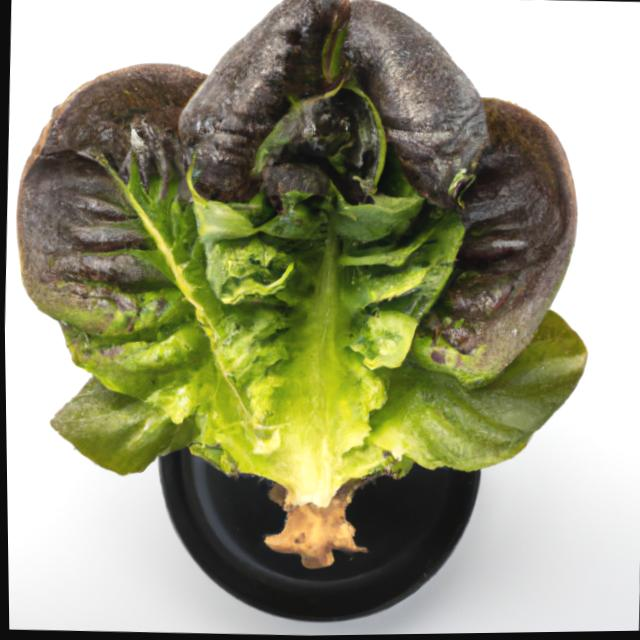-K: (0, 0, 618, 617)
